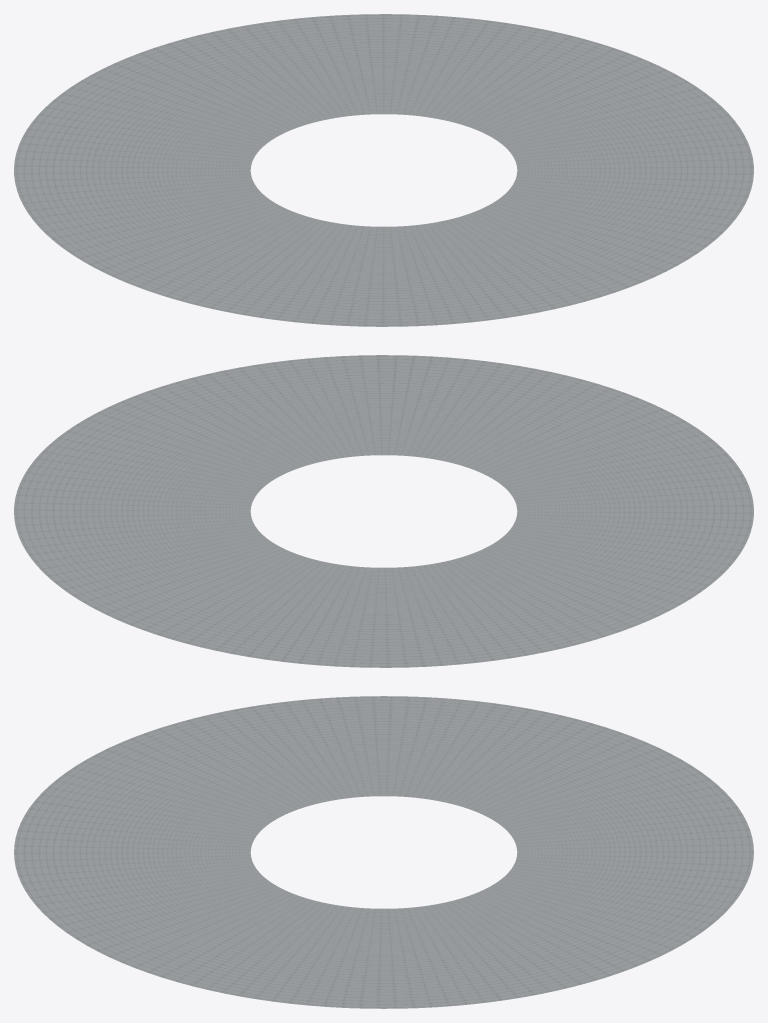
The model's file is field_winter_ground.fbx.
3 renders of one model, top to bottom at view 1: azimuth 30°, elevation 25°; view 2: azimuth 150°, elevation 25°; view 3: azimuth 270°, elevation 25°, orthographic.
Visible parts, largest first — view 1: field_winter_ground; view 2: field_winter_ground; view 3: field_winter_ground.
Boxes of the visible parts, x1=… form: field_winter_ground: x1=14, y1=14, x2=753, y2=326; field_winter_ground: x1=14, y1=355, x2=753, y2=667; field_winter_ground: x1=14, y1=696, x2=753, y2=1008.
Size of the model in its own units: 13300 by 0 by 13300.
1 material, 1 textured.
